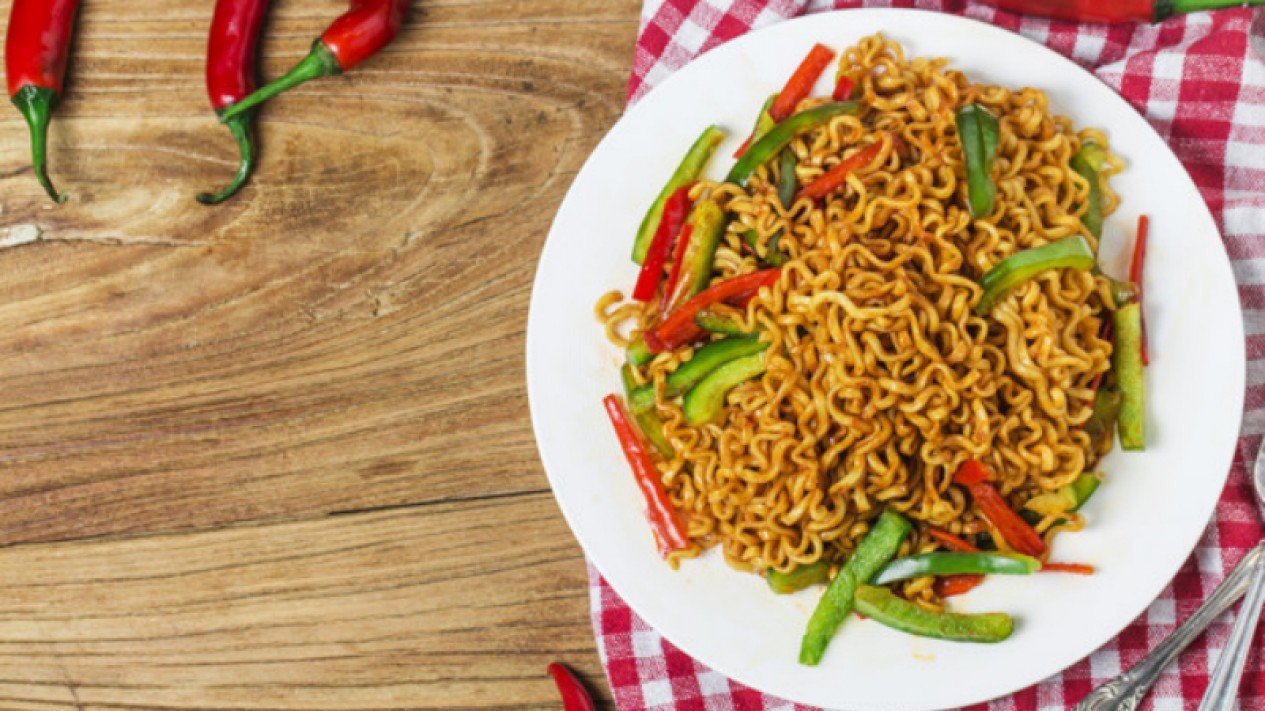Mie: (572, 69, 1187, 579)
